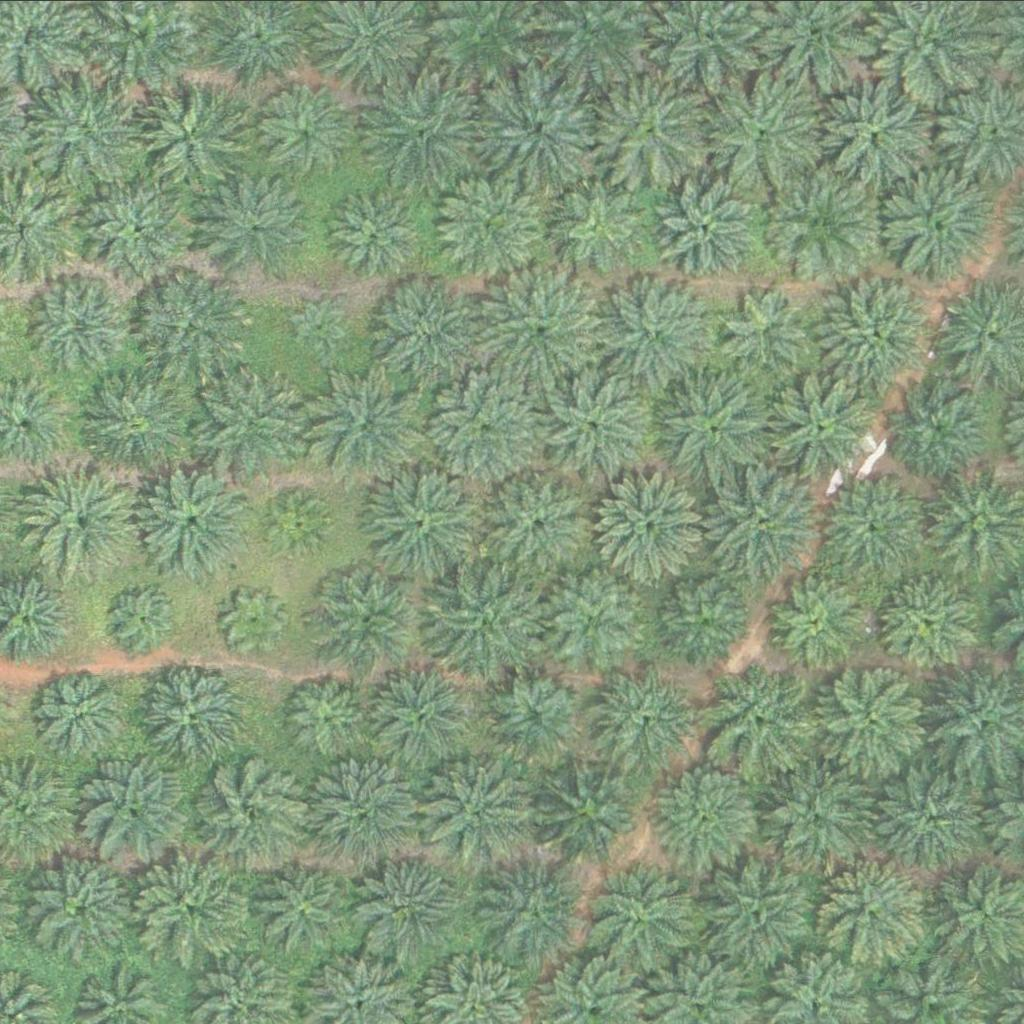Kelapa_Sawit: (360, 74, 474, 187), (204, 168, 318, 281), (532, 749, 646, 862), (584, 864, 698, 977), (650, 757, 764, 870), (703, 659, 817, 772), (814, 662, 928, 775), (29, 850, 142, 963), (29, 464, 142, 577), (34, 70, 147, 183), (133, 79, 246, 192), (482, 74, 595, 187), (85, 170, 198, 283), (306, 371, 419, 484), (429, 367, 542, 480), (140, 462, 253, 575), (366, 465, 479, 578), (195, 757, 308, 870), (308, 753, 421, 866), (423, 752, 536, 865), (133, 852, 246, 965), (253, 850, 366, 963), (763, 761, 876, 874), (596, 465, 709, 578), (541, 372, 654, 485), (655, 369, 768, 482), (760, 368, 873, 481), (820, 274, 933, 387), (879, 164, 992, 277), (595, 73, 708, 186), (139, 269, 253, 381), (82, 366, 196, 478), (472, 855, 586, 967), (437, 168, 550, 280), (371, 274, 484, 386), (484, 272, 597, 384), (195, 363, 308, 475), (485, 466, 598, 578), (312, 562, 425, 674), (434, 563, 547, 675), (139, 654, 252, 766), (370, 660, 483, 772), (80, 754, 193, 866), (355, 850, 468, 962), (702, 853, 815, 965), (817, 852, 930, 964), (870, 755, 983, 867), (709, 468, 822, 580), (819, 470, 932, 582), (602, 278, 715, 390), (765, 166, 878, 278), (707, 72, 820, 184), (813, 74, 926, 186), (487, 664, 588, 764), (542, 564, 643, 664), (652, 563, 753, 663), (887, 379, 988, 479), (720, 279, 821, 379), (542, 175, 643, 275), (653, 179, 754, 279), (31, 272, 131, 372), (254, 82, 354, 182), (323, 184, 423, 284), (592, 661, 692, 761), (767, 565, 867, 665), (879, 569, 979, 669), (40, 669, 128, 757), (280, 672, 368, 760), (267, 491, 330, 554), (113, 583, 176, 646), (224, 588, 287, 651), (287, 295, 350, 357)
